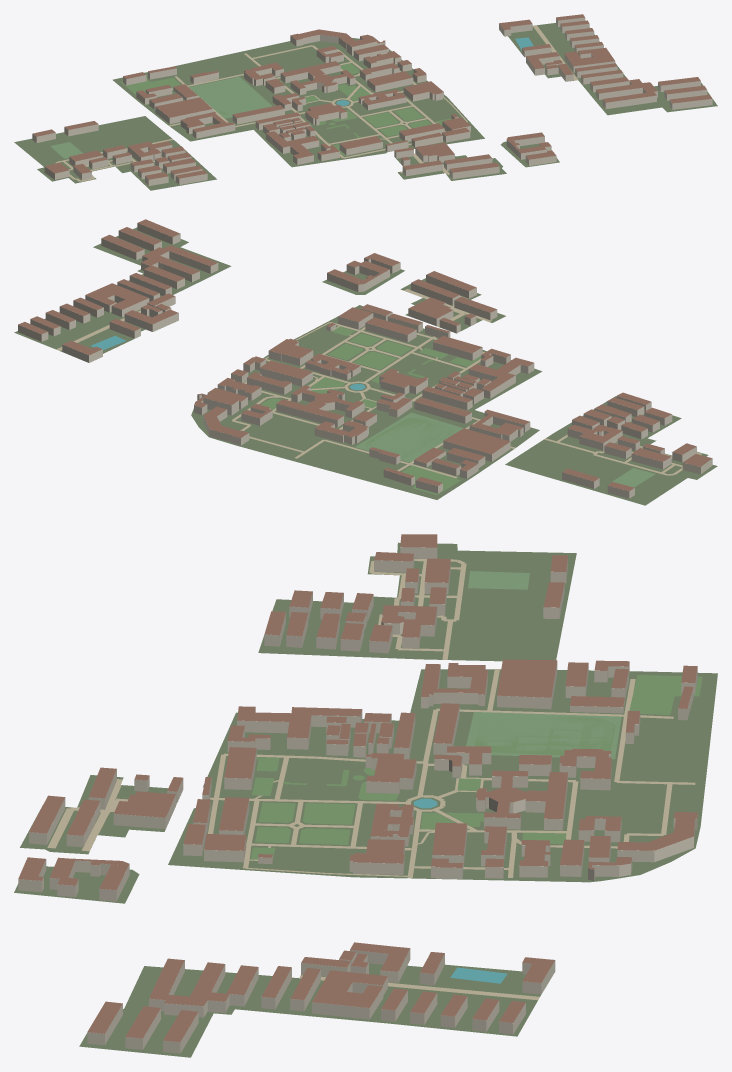
3 renders of one model, top to bottom at view 1: azimuth 30°, elevation 25°; view 2: azimuth 150°, elevation 25°; view 3: azimuth 270°, elevation 25°, orthographic. The views are drawn at different scales.
Visible parts, largest first — view 1: buildings, roofs, campus-ground, environment (×3); view 2: buildings, roofs, campus-ground, environment (×3); view 3: campus-ground, roofs, buildings, environment (×4).
Part boxes in pixels (x1,y1,x2,y2): buildings: (32,17,712,185); roofs: (33,14,711,179); campus-ground: (14,23,717,190); environment (×3): (50,25,578,181); buildings: (18,223,712,498); roofs: (18,219,712,491); campus-ground: (14,227,717,505); environment (×3): (56,289,701,494); campus-ground: (14,542,717,1057); roofs: (18,534,697,1042); buildings: (18,547,697,1053); environment (×4): (47,559,702,1000).
Size of the model in its own units: 1164 by 16.75 by 672.
